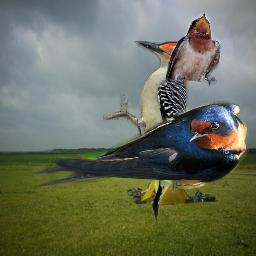Swallow: (30, 101, 249, 189), (166, 13, 221, 86)
Woodpecker: (103, 41, 194, 220)
